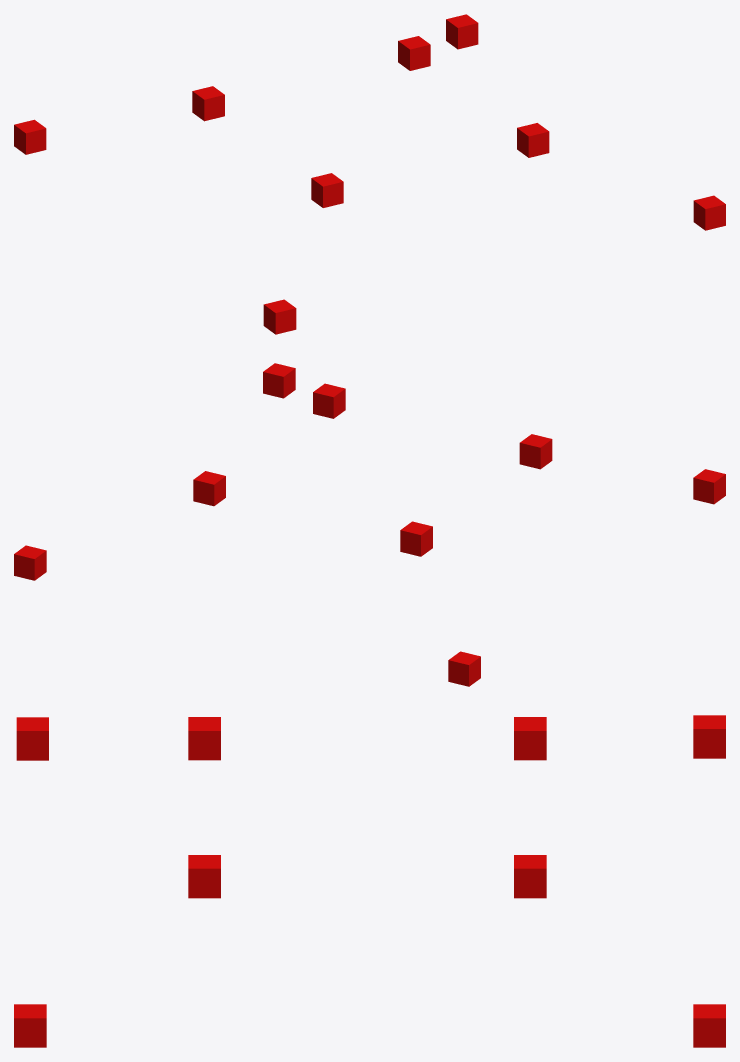
Rendered from level-1.fbx.
3 views of the same model, one above another, from view 1: azimuth 30°, elevation 25°; view 2: azimuth 150°, elevation 25°; view 3: azimuth 270°, elevation 25° (orthographic). The views are drawn at different scales.
Visible parts, largest first — view 1: Spawn_5_Cube.004, Spawn_4_Cube.015, Spawn_2_Cube.016, Spawn_1_Cube.002, Spawn_3_Cube.001, Spawn_7_Cube.003, Spawn_6_Cube.022, Spawn_0_Cube.013; view 2: Spawn_4_Cube.015, Spawn_5_Cube.004, Spawn_1_Cube.002, Spawn_7_Cube.003, Spawn_2_Cube.016, Spawn_0_Cube.013, Spawn_3_Cube.001, Spawn_6_Cube.022; view 3: Spawn_3_Cube.001, Spawn_1_Cube.002, Spawn_5_Cube.004, Spawn_7_Cube.003, Spawn_6_Cube.022, Spawn_4_Cube.015, Spawn_2_Cube.016, Spawn_0_Cube.013.
Part boxes in pixels (x1=…): Spawn_5_Cube.004: x1=263, y1=299, x2=296, y2=334; Spawn_4_Cube.015: x1=311, y1=173, x2=343, y2=207; Spawn_2_Cube.016: x1=517, y1=123, x2=549, y2=157; Spawn_1_Cube.002: x1=446, y1=14, x2=478, y2=49; Spawn_3_Cube.001: x1=693, y1=195, x2=725, y2=230; Spawn_7_Cube.003: x1=14, y1=119, x2=46, y2=154; Spawn_6_Cube.022: x1=192, y1=86, x2=224, y2=121; Spawn_0_Cube.013: x1=398, y1=36, x2=430, y2=70; Spawn_4_Cube.015: x1=519, y1=434, x2=552, y2=469; Spawn_5_Cube.004: x1=693, y1=469, x2=725, y2=504; Spawn_1_Cube.002: x1=14, y1=545, x2=46, y2=580; Spawn_7_Cube.003: x1=448, y1=651, x2=480, y2=686; Spawn_2_Cube.016: x1=313, y1=383, x2=345, y2=418; Spawn_0_Cube.013: x1=193, y1=471, x2=225, y2=506; Spawn_3_Cube.001: x1=263, y1=363, x2=295, y2=398; Spawn_6_Cube.022: x1=400, y1=521, x2=432, y2=556; Spawn_3_Cube.001: x1=14, y1=1004, x2=46, y2=1047; Spawn_1_Cube.002: x1=693, y1=1004, x2=725, y2=1047; Spawn_5_Cube.004: x1=16, y1=717, x2=48, y2=760; Spawn_7_Cube.003: x1=693, y1=715, x2=725, y2=758; Spawn_6_Cube.022: x1=514, y1=717, x2=546, y2=760; Spawn_4_Cube.015: x1=188, y1=717, x2=220, y2=760; Spawn_2_Cube.016: x1=188, y1=855, x2=220, y2=898; Spawn_0_Cube.013: x1=514, y1=855, x2=546, y2=898.
Size of what is drawn, in the model's own units: 4400 by 700 by 4369.
